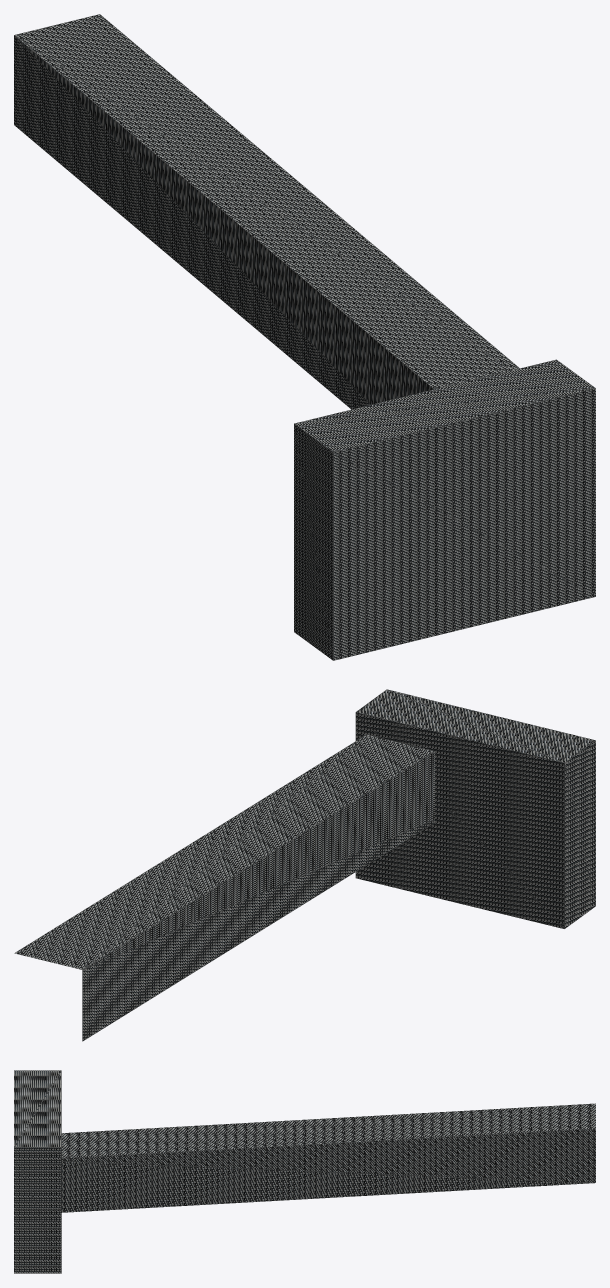
Rendered from FINGER.gltf.
3 renders of one model, top to bottom at view 1: azimuth 30°, elevation 25°; view 2: azimuth 150°, elevation 25°; view 3: azimuth 270°, elevation 25°, orthographic. The views are drawn at different scales.
Parts seen in each view (by area): view 1: node1; view 2: node1; view 3: node1.
Part boxes in pixels (bbox=[...]): node1: bbox=[14, 14, 595, 660]; node1: bbox=[14, 689, 595, 1041]; node1: bbox=[14, 1070, 595, 1273].
Size of the model in its own units: 11.85 by 10.05 by 37.69.
